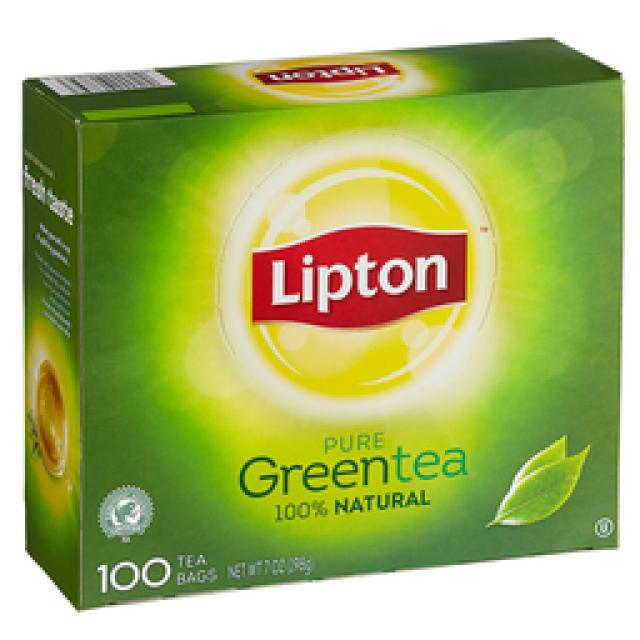tea-bags: (22, 37, 623, 614)
